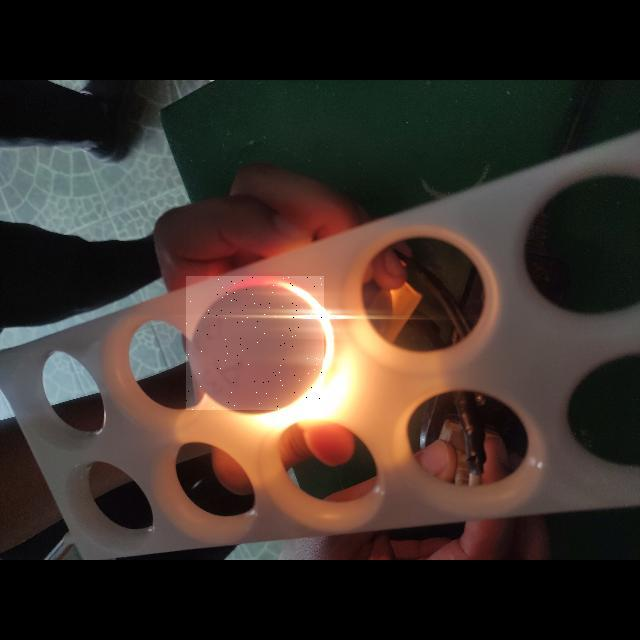Fertile: (186, 276, 324, 410)
